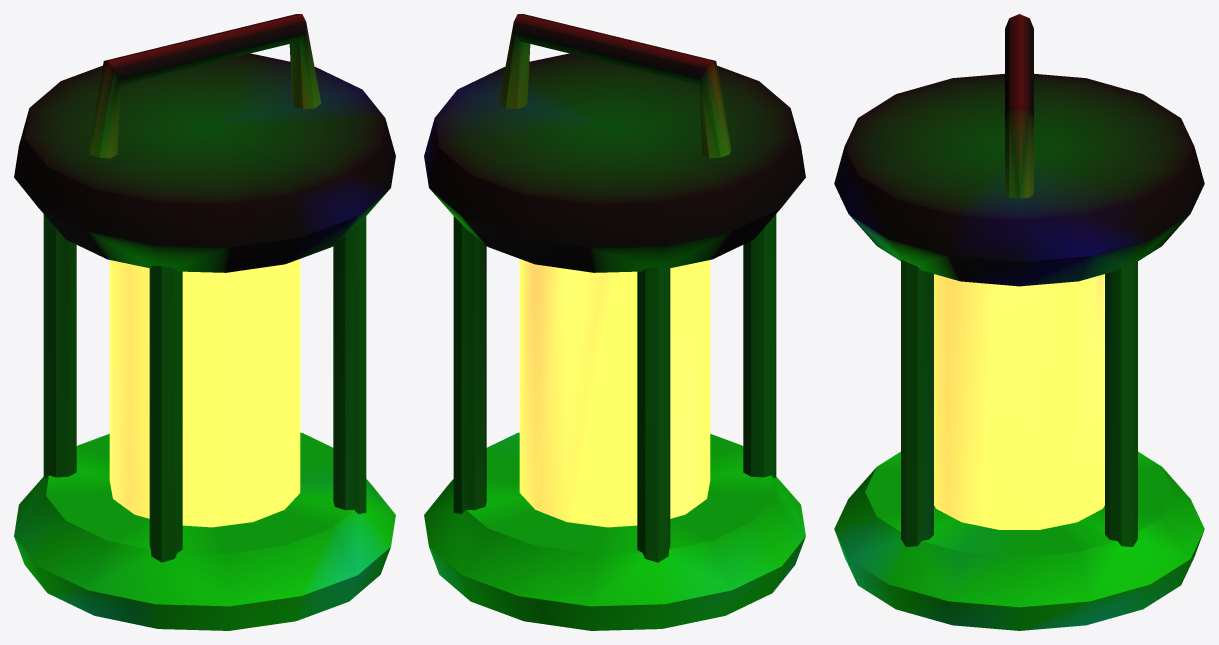
File: hero_thermal_core.glb
3 views of the same model, side by side, from view 1: azimuth 30°, elevation 25°; view 2: azimuth 150°, elevation 25°; view 3: azimuth 270°, elevation 25° (orthographic). The views are drawn at different scales.
Parts seen in each view (by area): view 1: HeroThermalCore; view 2: HeroThermalCore; view 3: HeroThermalCore.
Boxes of the visible parts, x1=… form: HeroThermalCore: x1=14, y1=14, x2=395, y2=630; HeroThermalCore: x1=424, y1=14, x2=805, y2=630; HeroThermalCore: x1=834, y1=14, x2=1204, y2=630.
Bounding box in the file's own units: 0.72 × 1.07 × 0.72.
